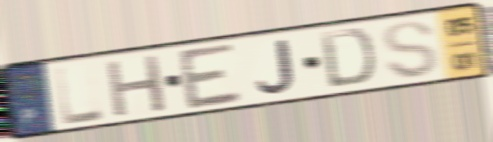D: (317, 26, 377, 91)
E: (175, 40, 246, 112)
H: (103, 51, 169, 120)
J: (253, 37, 297, 96)
L: (52, 63, 109, 128)
S: (380, 19, 441, 81)
